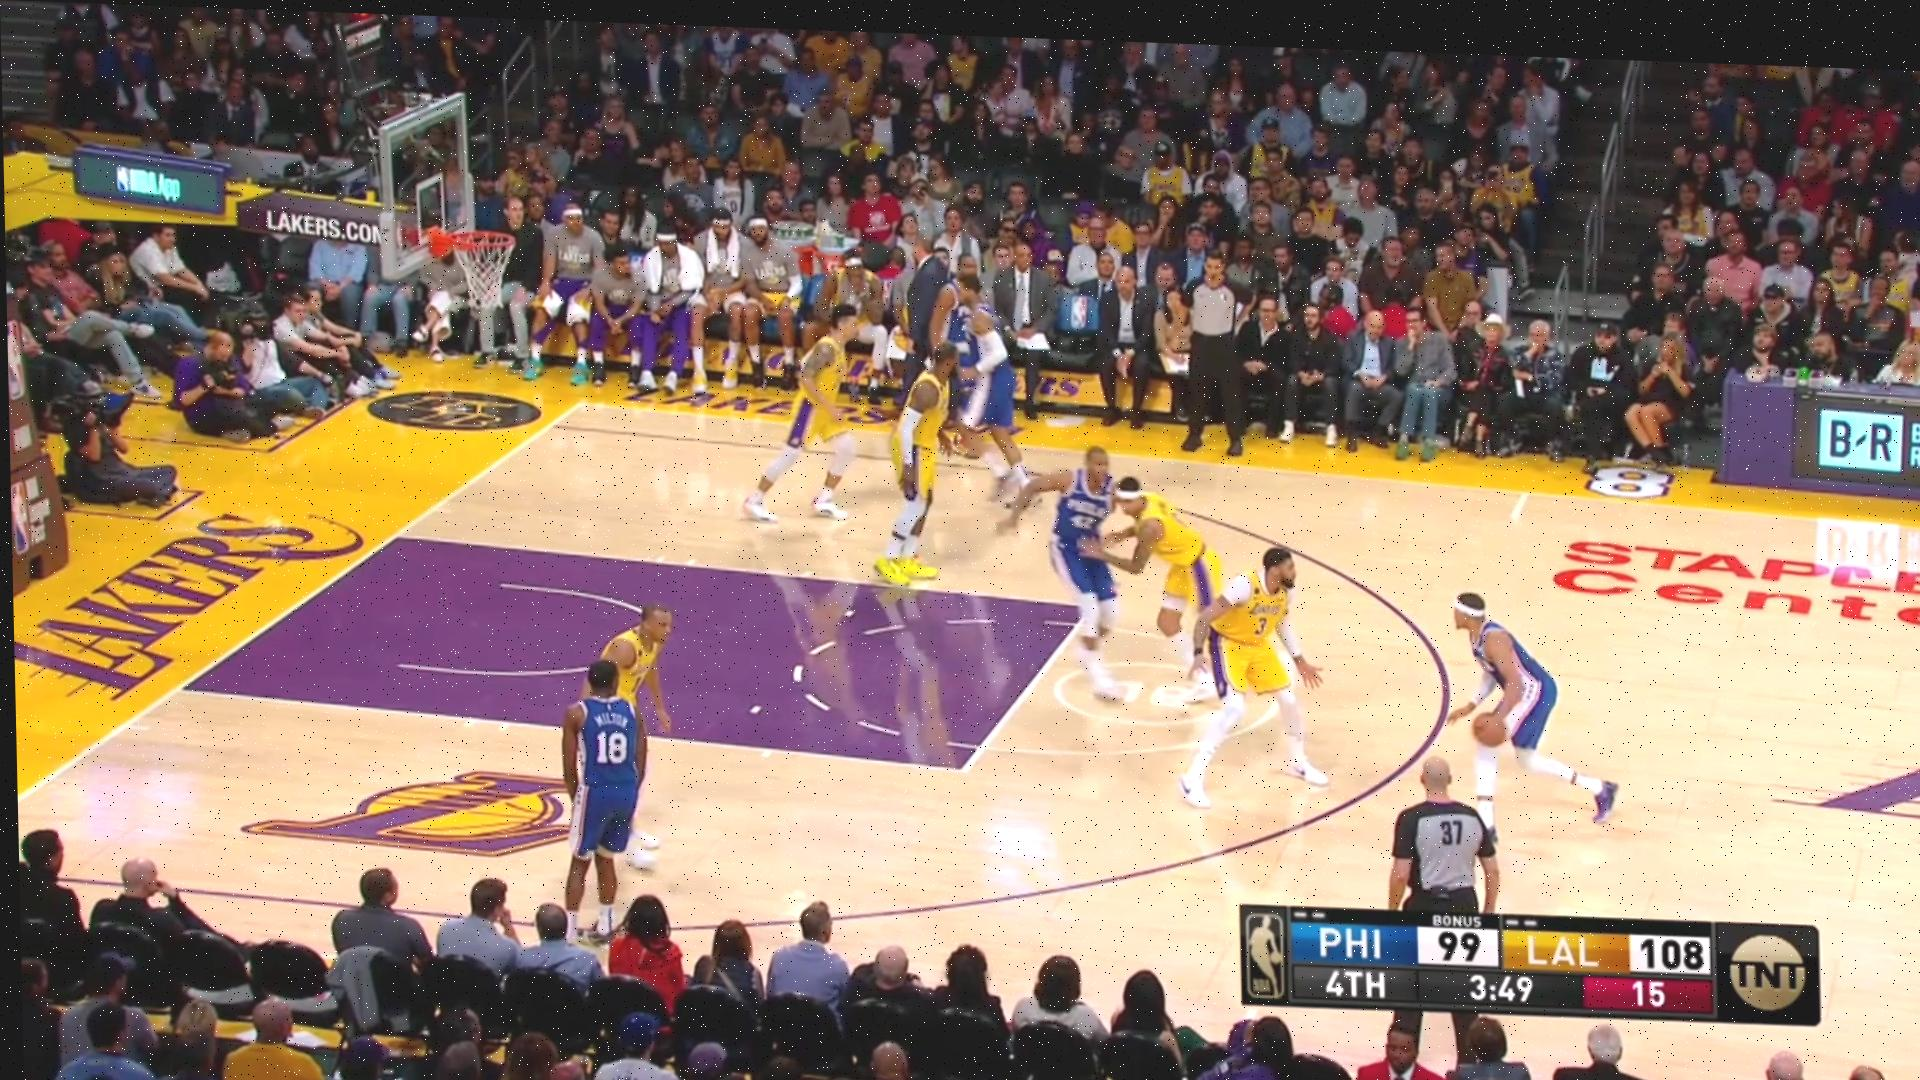no_foul: (1035, 421, 1205, 702)
